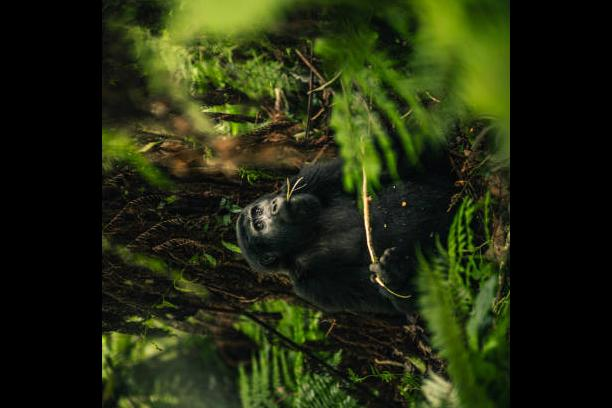goriile_montagne: (224, 132, 467, 336)
